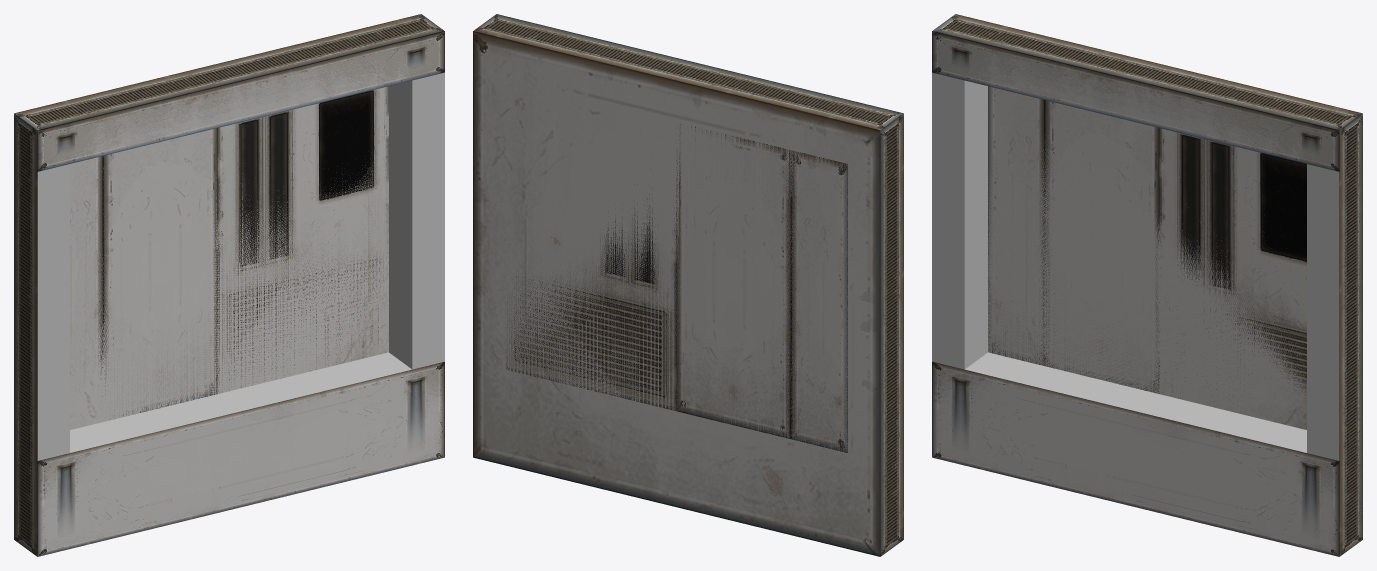
The model's file is scifi_wall4_5.FBX.
The picture shows the model from 3 angles, left to right: view 1: azimuth 30°, elevation 25°; view 2: azimuth 150°, elevation 25°; view 3: azimuth 330°, elevation 25°; orthographic projection.
Parts seen in each view (by area): view 1: Plane022; view 2: Plane022; view 3: Plane022.
Part boxes in pixels (x1,y1,x2,y2): Plane022: (14,14,444,556); Plane022: (473,14,903,556); Plane022: (932,14,1362,556).
Bounding box in the file's own units: 254 × 254 × 25.4.
